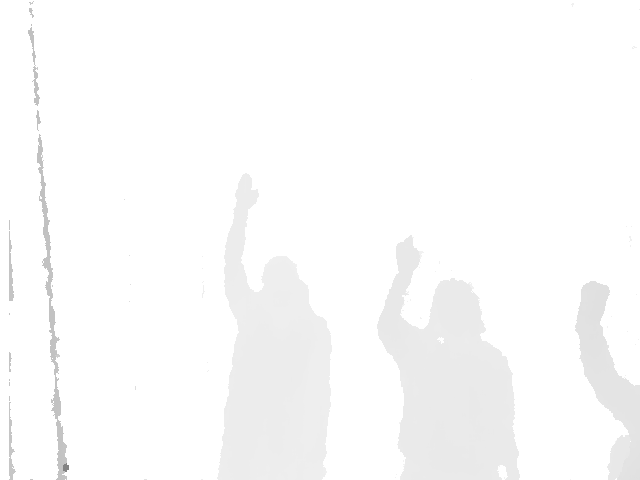hand: (574, 281, 611, 334), (391, 233, 424, 277), (233, 171, 261, 211)
head: (427, 277, 487, 352), (256, 255, 315, 324)
person: (374, 232, 528, 480), (217, 171, 334, 480), (573, 281, 640, 480)
